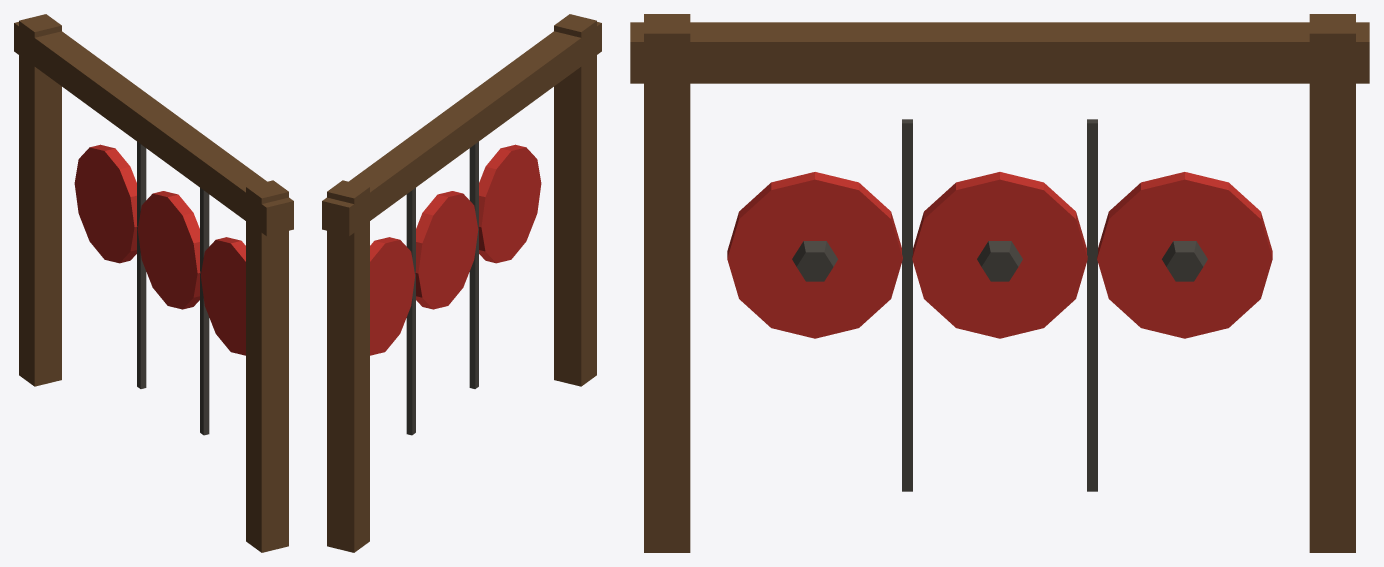
Rendered from rack-shields.glb.
The picture shows the model from 3 angles, left to right: view 1: azimuth 30°, elevation 25°; view 2: azimuth 150°, elevation 25°; view 3: azimuth 270°, elevation 25°; orthographic projection. The views are drawn at different scales.
Visible parts, largest first — view 1: rack-shields; view 2: rack-shields; view 3: rack-shields.
Boxes of the visible parts, x1,y1,x2,y2 form: rack-shields: [14, 14, 293, 552]; rack-shields: [322, 14, 601, 552]; rack-shields: [630, 14, 1369, 552].
Bounding box in the file's own units: 0.09 × 0.62 × 0.8.
